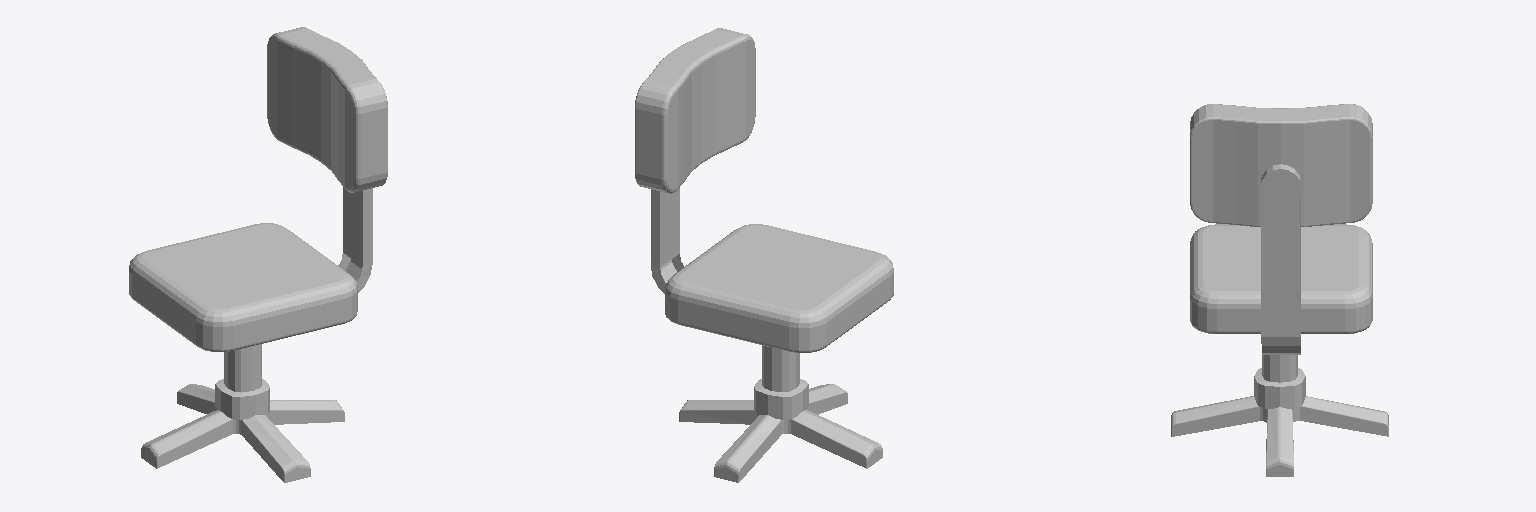
File: Chair_Model.obj
3 views of the same model, side by side, from view 1: azimuth 30°, elevation 25°; view 2: azimuth 150°, elevation 25°; view 3: azimuth 270°, elevation 25° (orthographic).
Visible parts, largest first — view 1: pCube11 Chair, Chair pCube13, Chair pCylinder2; view 2: pCube11 Chair, Chair pCube13, Chair pCylinder2; view 3: pCube11 Chair, Chair pCube13, Chair pCylinder2, Chair pCube12.
Part boxes in pixels (bbox=[...]): pCube11 Chair: bbox=[129, 187, 372, 351]; Chair pCube13: bbox=[267, 27, 387, 192]; Chair pCylinder2: bbox=[141, 344, 344, 482]; pCube11 Chair: bbox=[651, 188, 893, 352]; Chair pCube13: bbox=[635, 28, 755, 193]; Chair pCylinder2: bbox=[679, 345, 882, 482]; pCube11 Chair: bbox=[1190, 198, 1372, 354]; Chair pCube13: bbox=[1190, 104, 1372, 226]; Chair pCylinder2: bbox=[1171, 355, 1388, 476]; Chair pCube12: bbox=[1261, 164, 1300, 197].
Size of the model in its own units: 2.11 by 3.41 by 1.86.